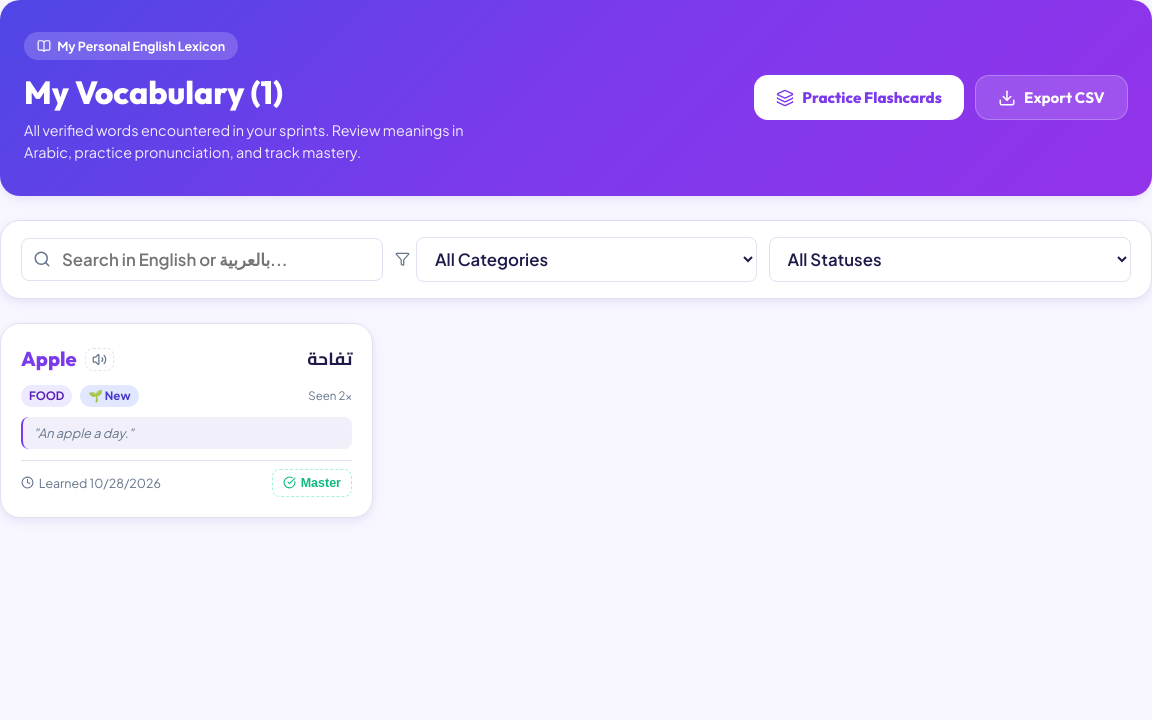
Test: Game Flow, Validation, Scoring & UI (Sections A, B, C, D, F) › F4: renders VocabularyLibrary with search, category filter, and flashcards
Expected: the heading "My Vocabulary (1)" is shown, [24,72,283,112]
Expected: the text "Apple" is shown, [21,344,77,374]
# Toggle flashcards
Click the button "Practice Flashcards" at (859,98), box [754,75,964,120]
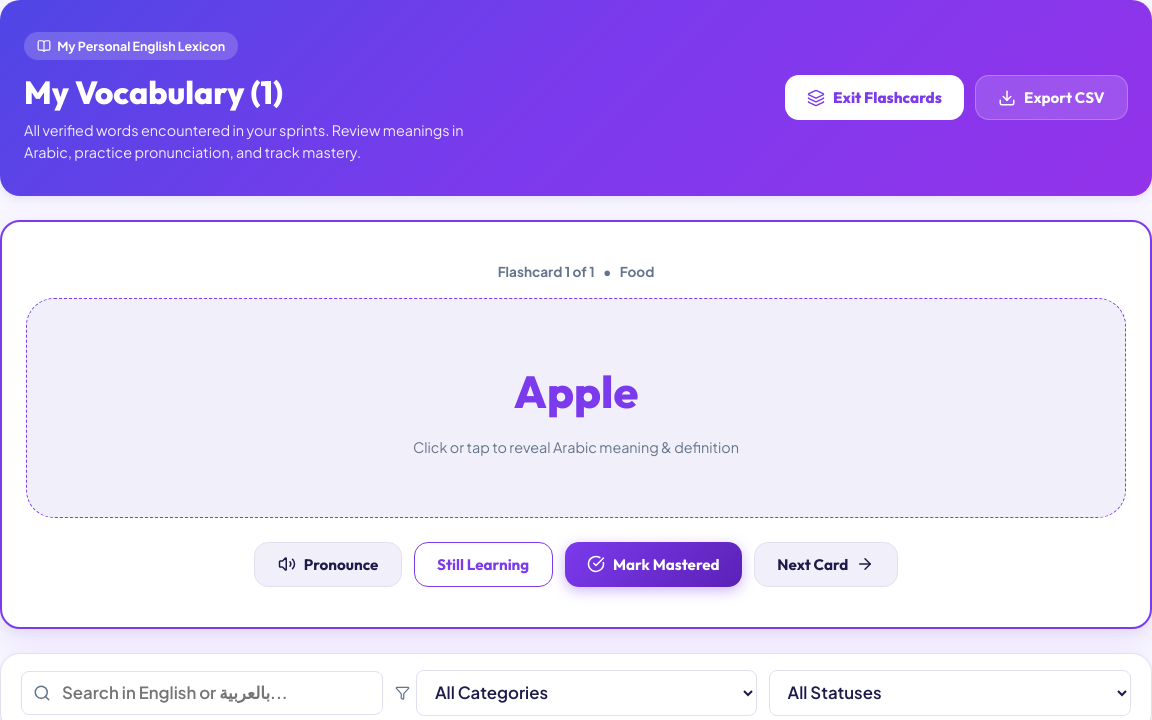
Now the text "Flashcard 1 of 1" is shown, box [498,262,595,282]
